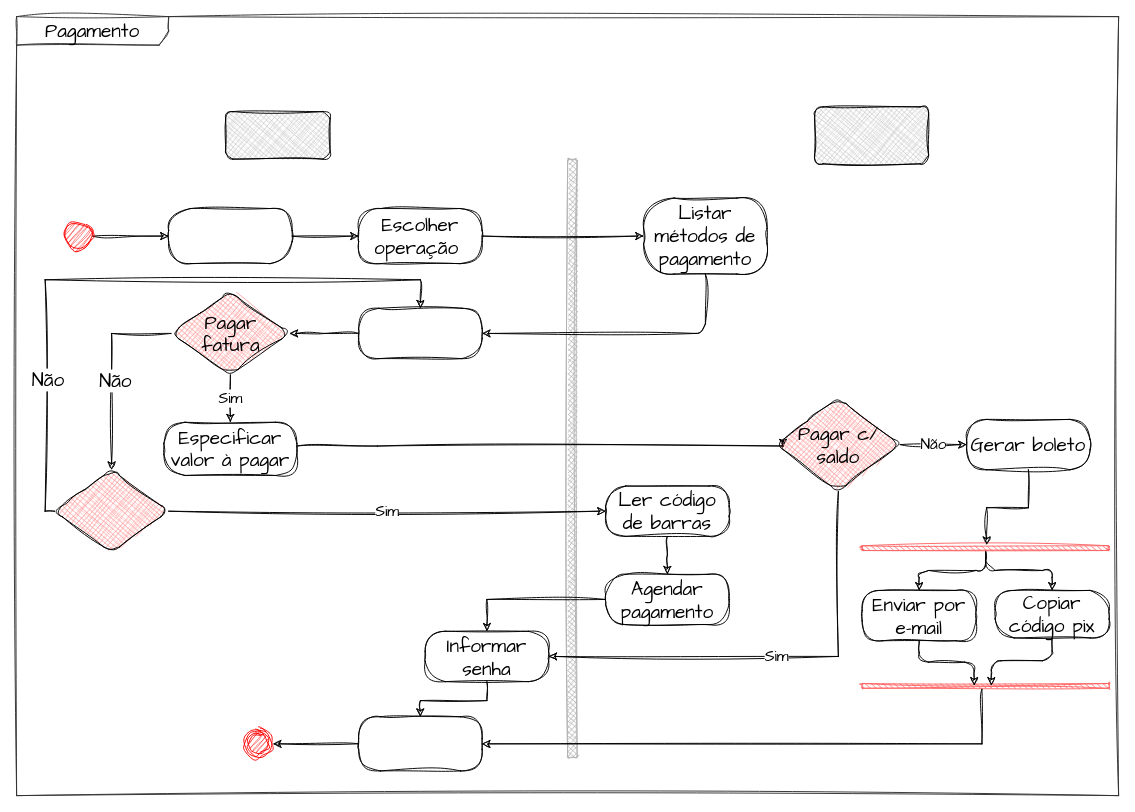
Some shapes in this 1135 by 812 pixel diagram are drawn without their labels. The box of each missing label's shape, as (x1, y1, x2, y2) in pixels:
Abrir aplicativo: (168, 208, 292, 264)
Cliente: (225, 111, 330, 159)
Efetuar pagamento: (358, 716, 482, 771)
Pagar boleto: (54, 469, 169, 553)
Selecionar método: (358, 307, 482, 359)
Sistema: (814, 106, 929, 164)
